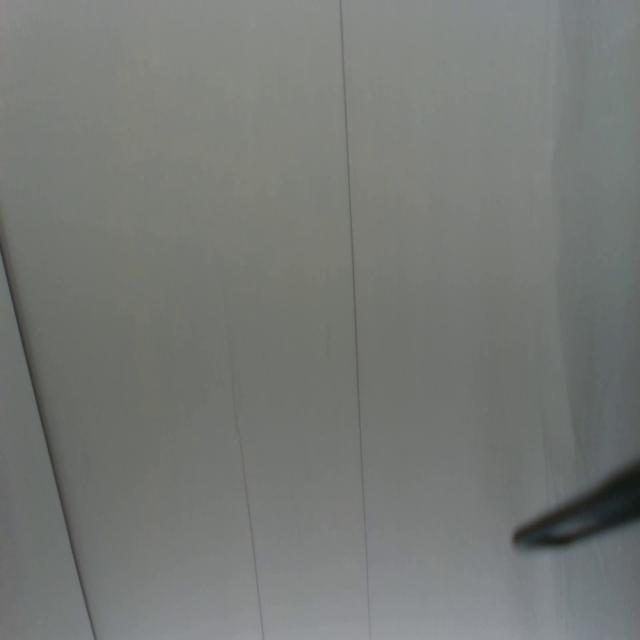crease: (1, 243, 99, 640), (337, 0, 379, 639), (221, 294, 266, 640)
